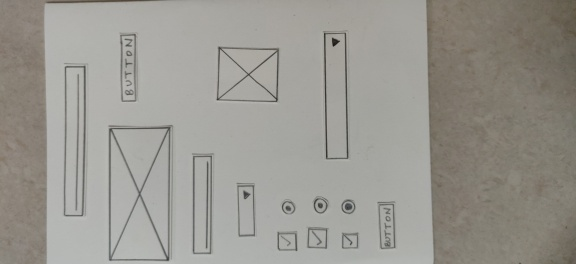checkbox: (273, 226, 299, 250), (307, 227, 329, 250), (341, 231, 361, 249)
dropdown: (320, 30, 351, 160), (234, 180, 259, 238)
img: (108, 123, 174, 264), (213, 42, 281, 107)
radio: (310, 196, 329, 214), (339, 197, 356, 217), (278, 197, 296, 214)
text: (62, 63, 87, 219), (191, 151, 215, 256)
